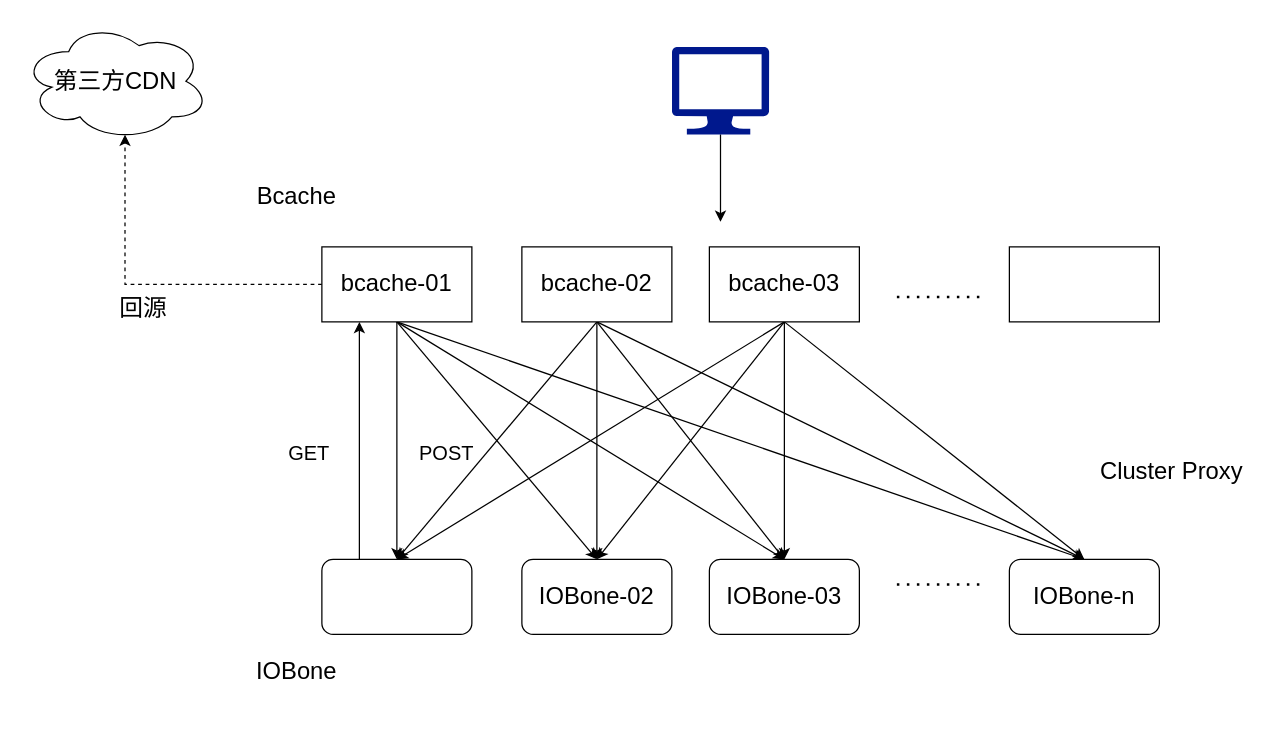
The diagram is 1281 pixels wide and 731 high, and some of its shapes have lost their labels. Here are the shapes that lost their labels. From the top down, the centre of each, then its label:
the point at 719,90: user
the point at 1083,284: bcache-n
the point at 396,596: IOBone-01
